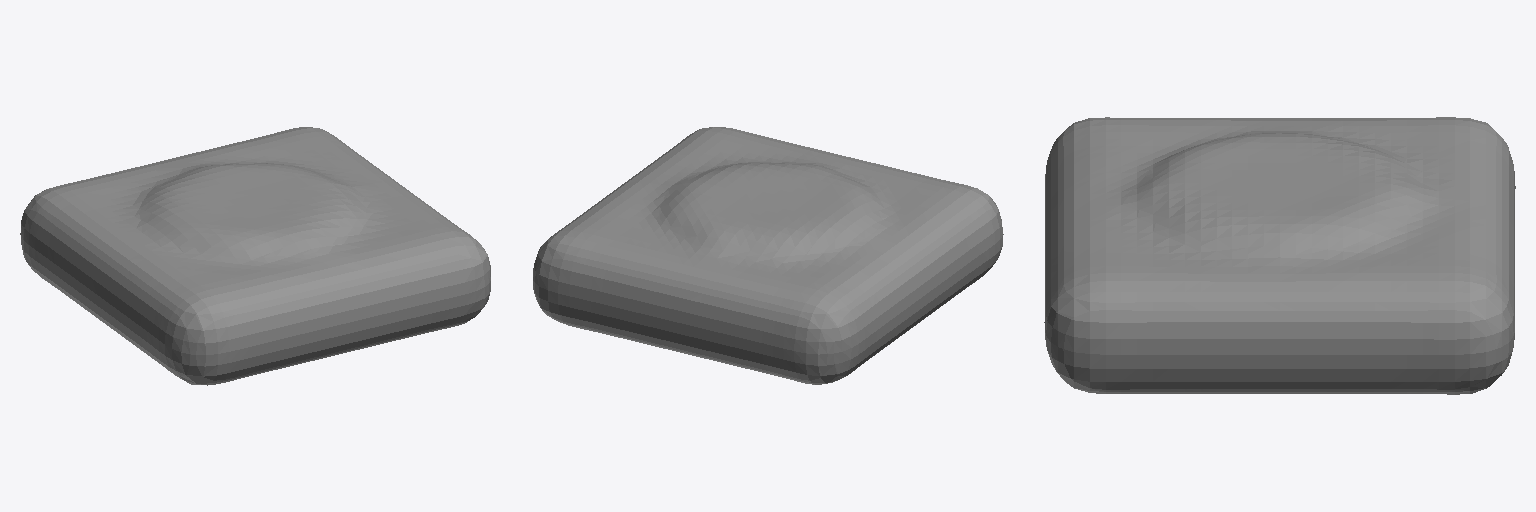
robot.urdf — cube.urdf:
<?xml version="0.0" ?> 
<robot name="cube.urdf"> 
<link name="legobrick"> 
<contact> 
<lateral_friction value="5.0"/> 
<rolling_friction value="0.0"/> 
<contact_cfm value="0.0"/> 
<contact_erp value="1.0"/> 
</contact> 
<inertial> 
<origin rpy="0 0 0" xyz="0.0 0.0 0.0"/> 
<mass value=".01"/> 
<inertia ixx="1" ixy="0" ixz="0" iyy="1" iyz="0" izz="1"/> 
</inertial> 
<visual> 
<origin rpy="1.570796 0 0" xyz="-0.02580180259997524 0.0258235158090857 -0.0294969056537254"/> 
<geometry> 
<mesh filename="V03_3.obj" scale="0.0005599199592738459 0.0005599199592738459 0.0005599199592738459"/> 
</geometry> 
<material name="yellow"> 
<color rgba="0.6 0.6 0.6 1"/> 
</material> 
</visual> 
<collision> 
<origin rpy="1.570796 0 0" xyz="-0.02580180259997524 0.0258235158090857 -0.0294969056537254"/> 
<geometry> 
<mesh filename="V03_3.obj" scale="0.0005599199592738459 0.0005599199592738459 0.0005599199592738459"/> 
</geometry> 
</collision> 
</link> 
</robot>

--- What the picture shows (computed from the rendered views, not written in the file) ---
3 views of the same robot in one strip: view 1: azimuth 30°, elevation 25°; view 2: azimuth 150°, elevation 25°; view 3: azimuth 270°, elevation 25° (orthographic).
Robot: cube.urdf — 1 links, 0 joints (none); root link legobrick; default pose: every joint at zero.
Links seen in each view (by area): view 1: legobrick; view 2: legobrick; view 3: legobrick.
Boxes of the visible links, x1,y1,x2,y2 form: legobrick: (20, 127, 490, 385); legobrick: (533, 127, 1003, 384); legobrick: (1044, 117, 1515, 394).
Size in the robot's own frame: 0.056 by 0.056 by 0.0172 metres.
1 mesh visuals loaded from 1 distinct referenced files (1 OBJ).
